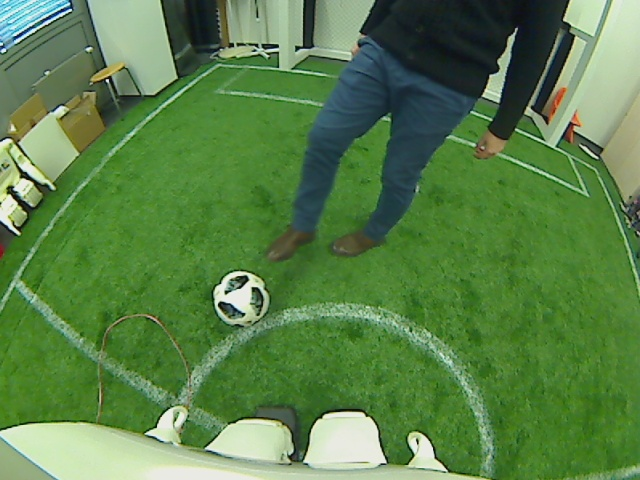ball: (211, 269, 269, 328)
